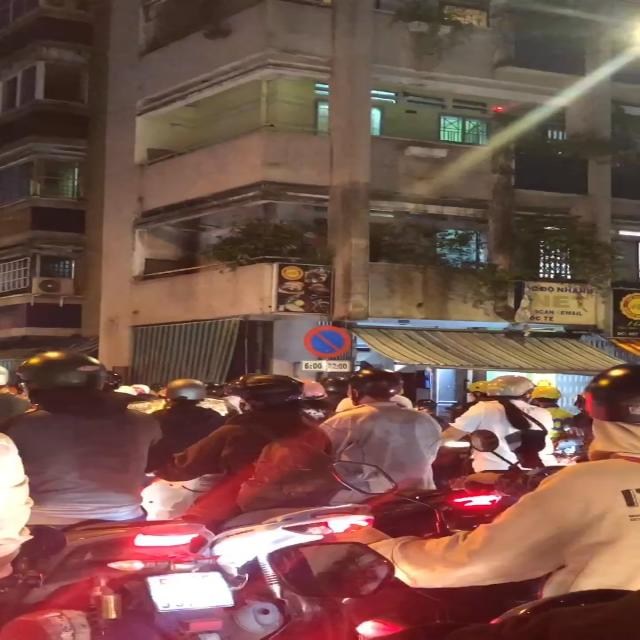Bien bao cam do xe: (303, 322, 358, 360)
